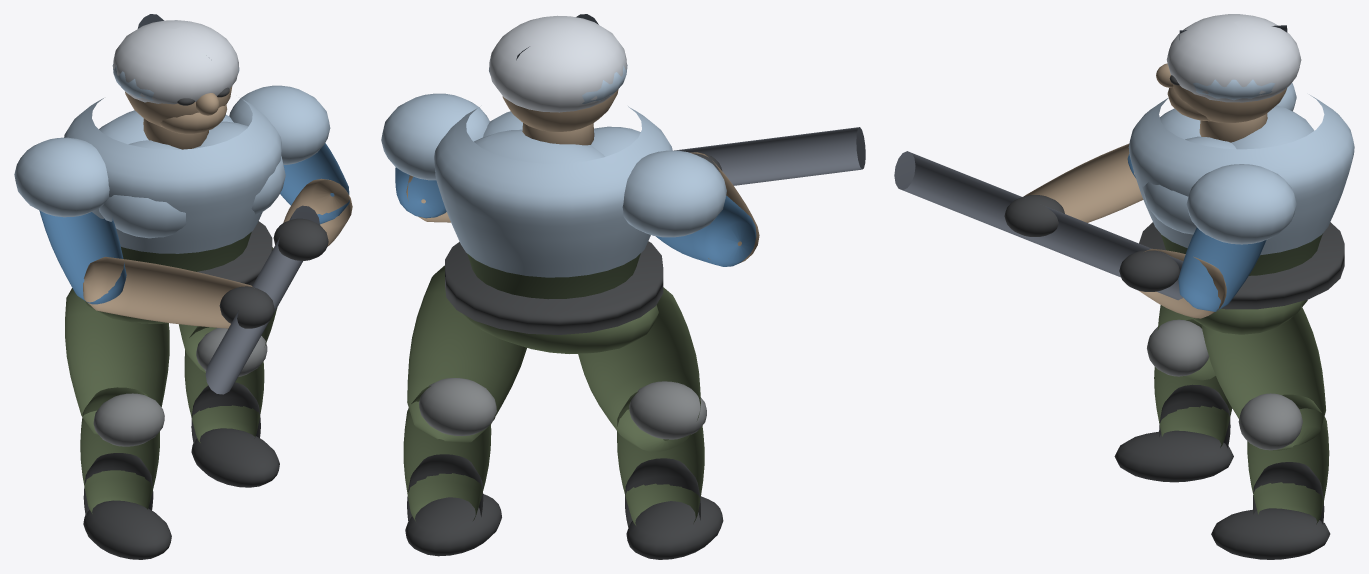
The model's file is security_gate.glb.
3 renders of one model, left to right at view 1: azimuth 30°, elevation 25°; view 2: azimuth 150°, elevation 25°; view 3: azimuth 270°, elevation 25°, orthographic. The views are drawn at different scales.
Parts seen in each view (by area): view 1: Hull; view 2: Hull; view 3: Hull.
Part boxes in pixels (x1,y1,x2,y2): Hull: (14,14,352,559); Hull: (381,14,865,559); Hull: (894,14,1354,559).
Size of what is drawn, in the model's own units: 0.4765 by 0.7103 by 0.6014.
